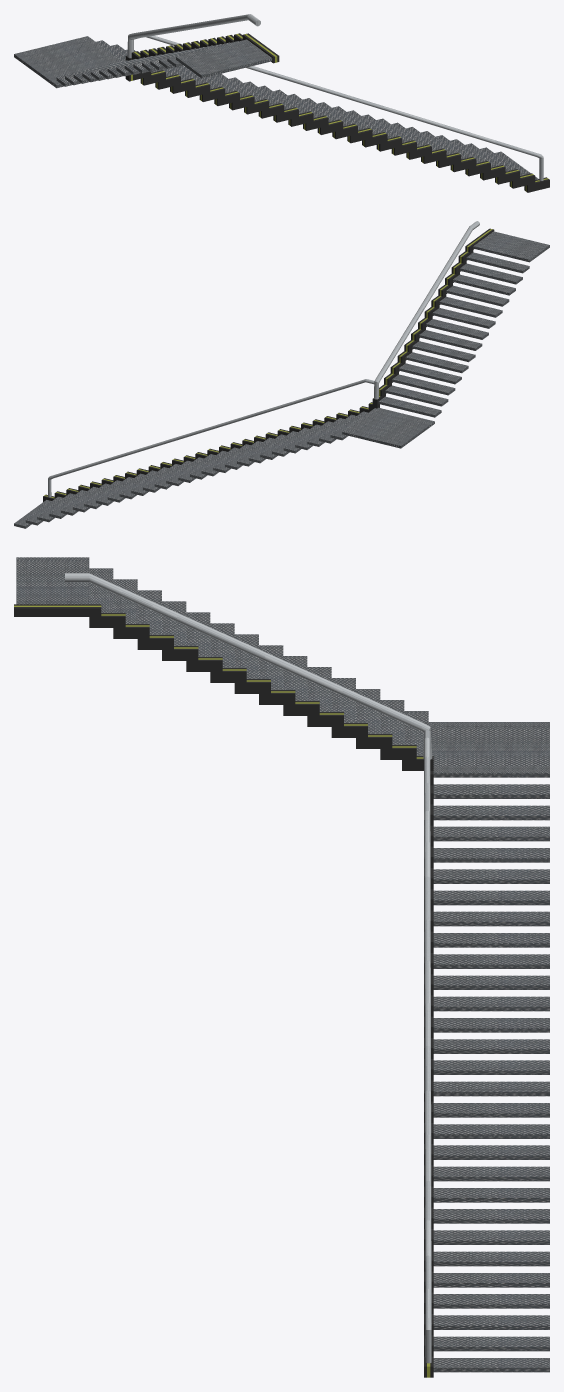
The model's file is Stairs1.fbx.
The picture shows the model from 3 angles, top to bottom: view 1: azimuth 30°, elevation 25°; view 2: azimuth 150°, elevation 25°; view 3: azimuth 270°, elevation 25°; orthographic projection. The views are drawn at different scales.
Visible parts, largest first — view 1: Cube.087, Cube.008, Cube, Cylinder.002, Cylinder, Cube.035, Cube.028, Cube.036; view 2: Cube.087, Cube.008, Cylinder.002, Cube, Cylinder, Cube.021, Cube.004, Cube.017, Cube.020, Cube.022, Cube.027, Cube.007 (+7 smaller); view 3: Cube.087, Cube.008, Cylinder.002, Cylinder, Cube, Cube.010, Cube.011, Cube.014, Cube.015, Cube.029, Cube.033, Cube.037 (+21 smaller).
Boxes of the visible parts, x1,y1,x2,y2 form: Cube.087: [125, 33, 549, 192]; Cube.008: [14, 36, 121, 88]; Cube: [176, 39, 272, 78]; Cylinder.002: [133, 35, 543, 180]; Cylinder: [127, 14, 260, 57]; Cube.035: [332, 106, 376, 134]; Cube.028: [229, 77, 272, 105]; Cube.036: [347, 110, 390, 138]; Cube.087: [43, 228, 494, 501]; Cube.008: [342, 407, 434, 448]; Cylinder.002: [48, 379, 374, 497]; Cube: [473, 231, 549, 262]; Cylinder: [374, 221, 479, 399]; Cube.021: [412, 341, 475, 362]; Cube.004: [466, 252, 529, 273]; Cube.017: [439, 296, 502, 317]; Cube.020: [419, 330, 482, 350]; Cube.022: [405, 352, 468, 373]; Cube.027: [378, 396, 441, 417]; Cube.007: [446, 285, 509, 306]; Cube.087: [14, 604, 433, 1377]; Cube.008: [428, 722, 549, 777]; Cylinder.002: [424, 730, 431, 1363]; Cylinder: [65, 573, 432, 759]; Cube: [16, 557, 89, 604]; Cube.010: [433, 805, 549, 820]; Cube.011: [433, 826, 549, 841]; Cube.014: [433, 890, 549, 905]; Cube.015: [433, 911, 549, 926]; Cube.029: [433, 996, 549, 1011]; Cube.033: [433, 1081, 549, 1096]; Cube.037: [433, 1166, 549, 1181].
Size of the model in its own units: 3330 by 2339 by 2210.
